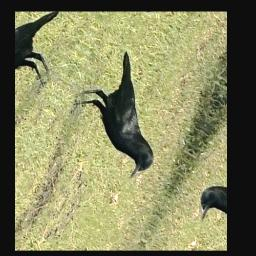Crow: (55, 39, 191, 185)
